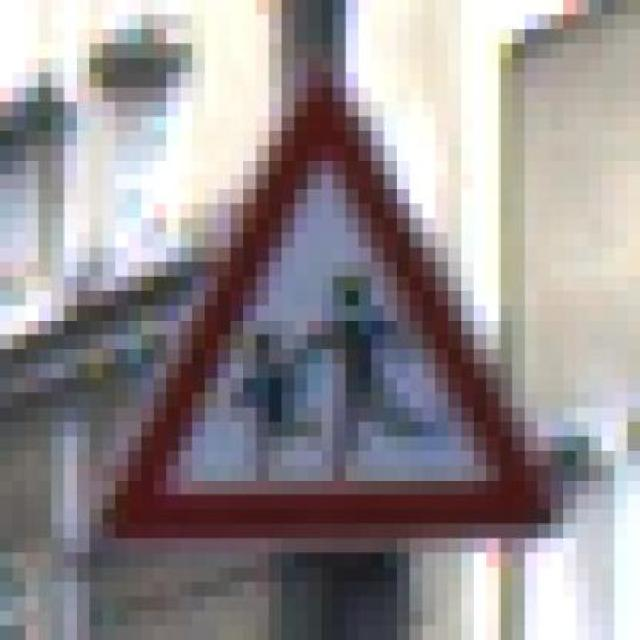Beware of children: (90, 58, 576, 553)
